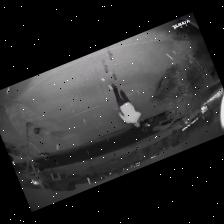person: (111, 84, 140, 126)
